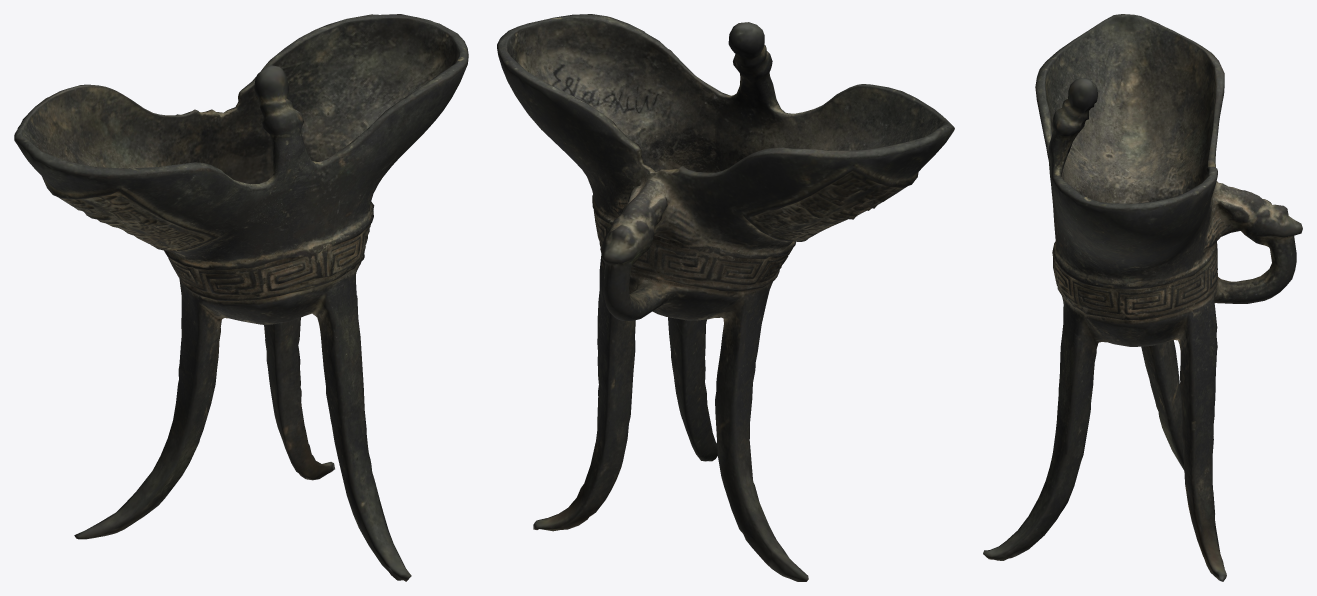
File: MTY000783.glb
3 views of the same model, side by side, from view 1: azimuth 30°, elevation 25°; view 2: azimuth 150°, elevation 25°; view 3: azimuth 270°, elevation 25° (orthographic). The views are drawn at different scales.
Visible parts, largest first — view 1: MTY000783; view 2: MTY000783; view 3: MTY000783.
Part boxes in pixels (bbox=[...]): MTY000783: bbox=[14, 14, 468, 581]; MTY000783: bbox=[497, 14, 954, 581]; MTY000783: bbox=[983, 14, 1302, 581].
Size of the model in its own units: 50.41 by 54.3 by 35.27.
Materials: 1 (1 with a texture image).
